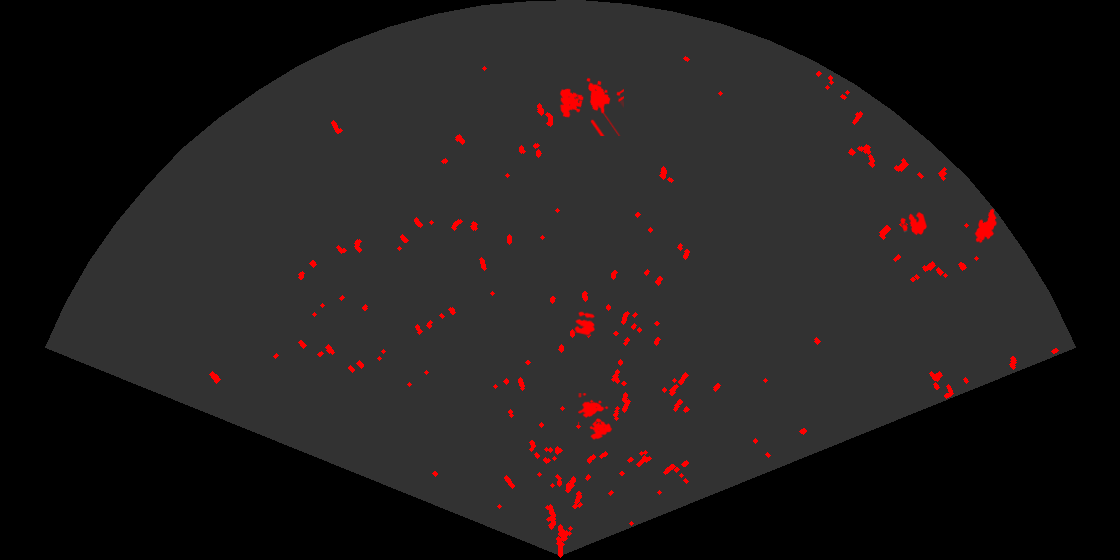AUV: (973, 207, 999, 245)
ball: (899, 210, 929, 237), (573, 310, 597, 337)
cage: (558, 76, 624, 136), (578, 393, 614, 441)
